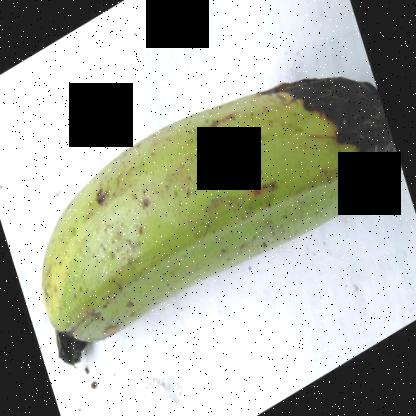rotten: (238, 19, 416, 197)
unripe: (36, 87, 281, 356)
